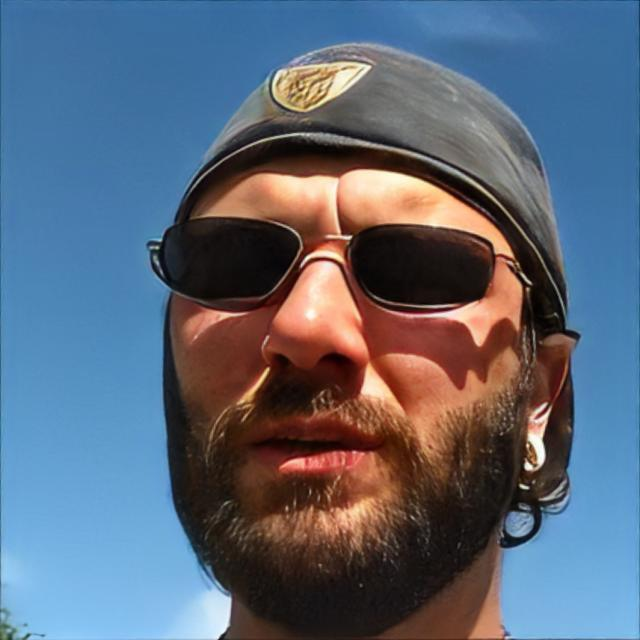anger: (163, 150, 532, 604)
